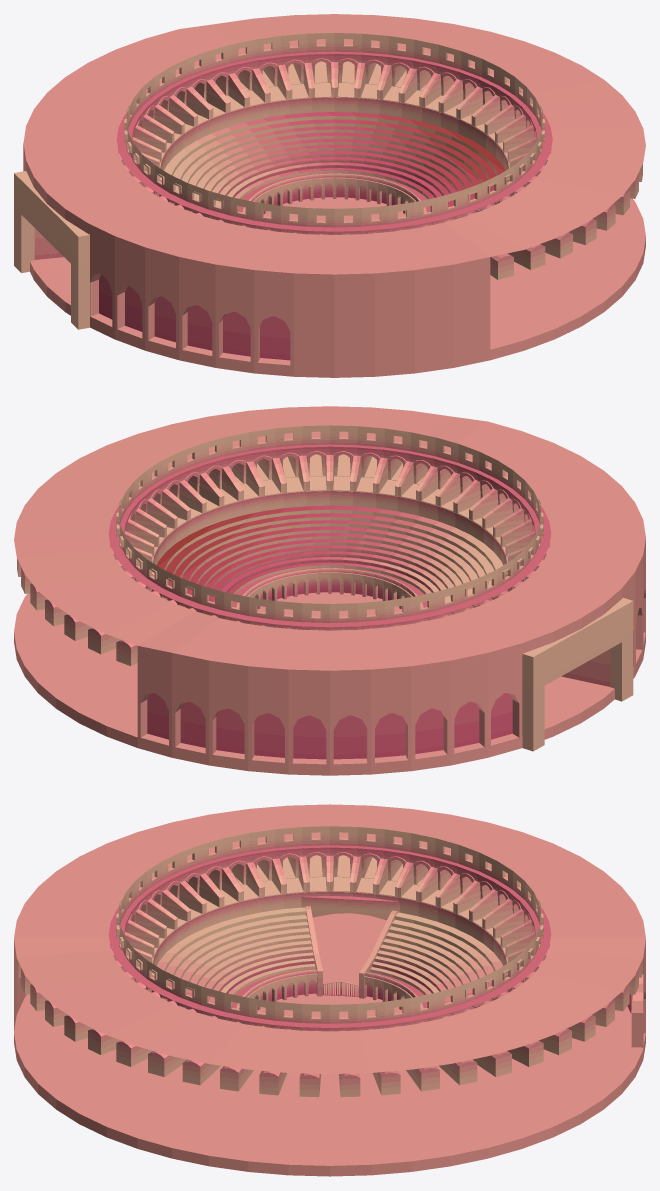
The model's file is Colosseum2.fbx.
3 renders of one model, top to bottom at view 1: azimuth 30°, elevation 25°; view 2: azimuth 150°, elevation 25°; view 3: azimuth 270°, elevation 25°, orthographic.
Parts seen in each view (by area): view 1: Colosseum; view 2: Colosseum; view 3: Colosseum.
Boxes of the visible parts, x1,y1,x2,y2 form: Colosseum: [14, 14, 645, 377]; Colosseum: [14, 406, 645, 775]; Colosseum: [14, 804, 645, 1176].
Bounding box in the file's own units: 21974 × 4821 × 21652.
